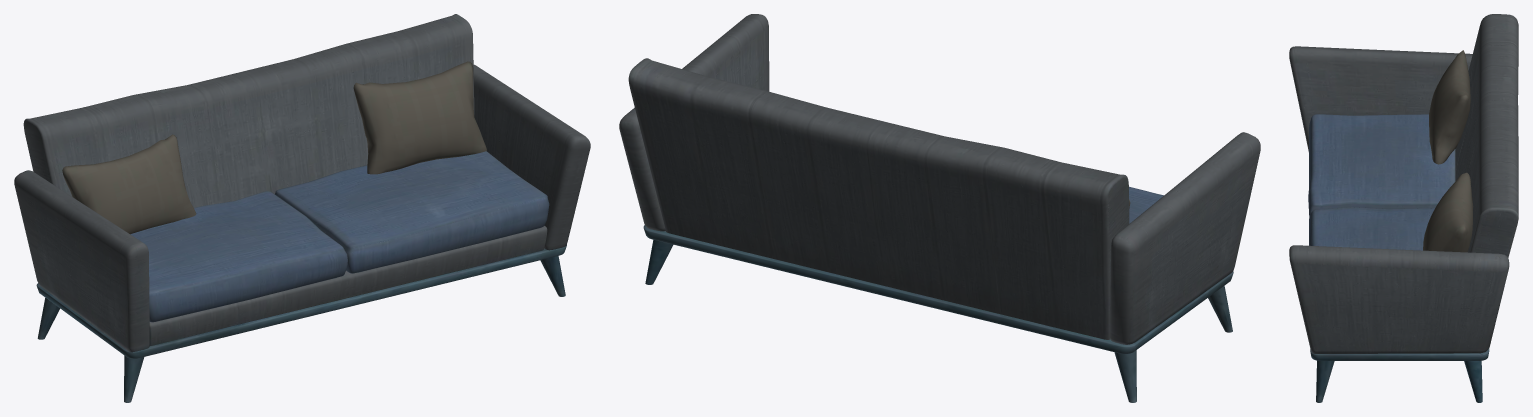
File: sofa2-var2.glb
3 renders of one model, left to right at view 1: azimuth 30°, elevation 25°; view 2: azimuth 150°, elevation 25°; view 3: azimuth 270°, elevation 25°, orthographic. The views are drawn at different scales.
Visible parts, largest first — view 1: Object_2; view 2: Object_2; view 3: Object_2.
Boxes of the visible parts, box(x1,y1,x2,y2) form: Object_2: box(14, 14, 590, 402); Object_2: box(619, 14, 1260, 402); Object_2: box(1289, 14, 1518, 402).
Bounding box in the file's own units: 93.67 × 40.01 × 43.28.
Materials: 2 (2 with a texture image).
